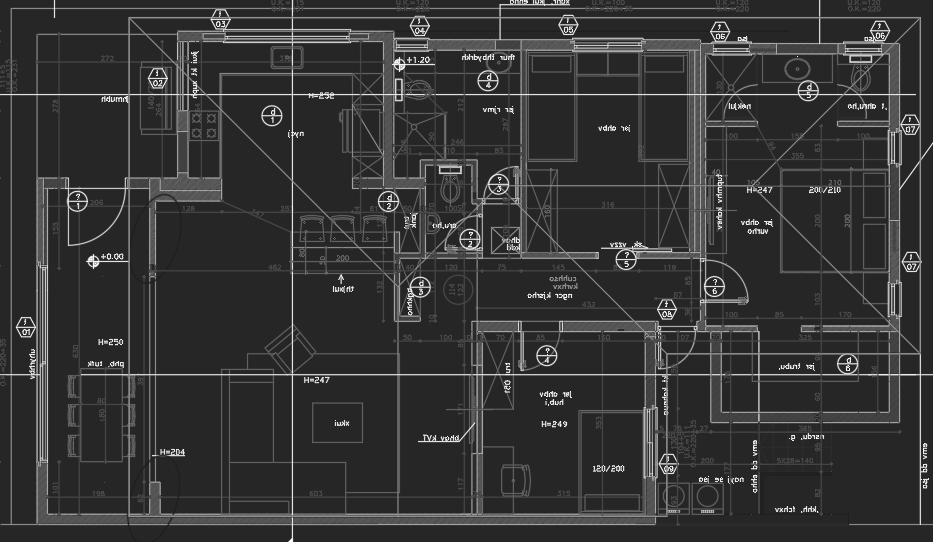door: (62, 170, 133, 249), (691, 253, 750, 306), (514, 315, 566, 374), (436, 209, 489, 260), (473, 160, 526, 205)
window: (31, 263, 55, 472), (217, 26, 355, 47), (638, 403, 663, 484), (569, 32, 648, 56), (170, 38, 191, 116), (838, 35, 884, 66), (882, 273, 905, 327), (883, 127, 904, 173), (709, 38, 757, 58)
